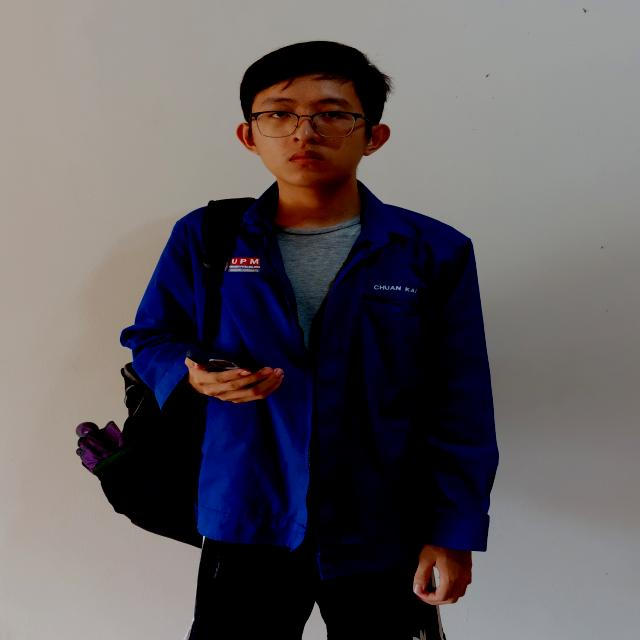person_with_labcoat: (76, 42, 498, 640)
